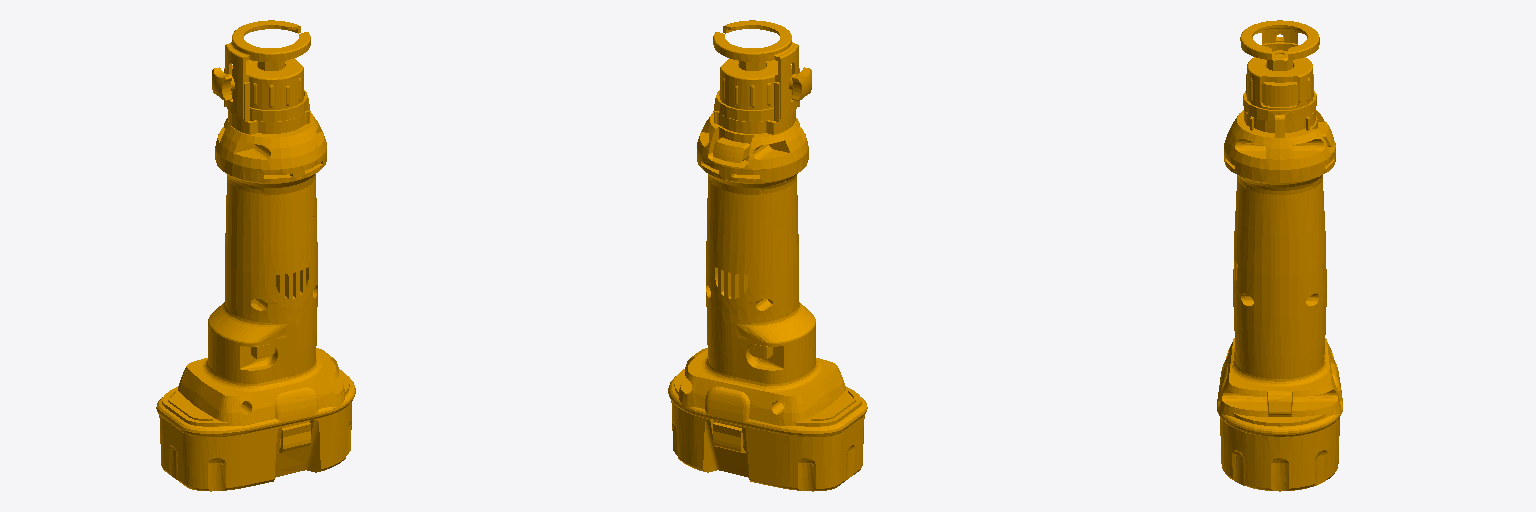
The robot description file, URDF, robot "dewalt_dc550ka-robot":
<?xml version="1.0"?>
<robot name="dewalt_dc550ka-robot"
       xmlns:xi="http://www.w3.org/2001/XInclude"
       xmlns:gazebo="http://playerstage.sourceforge.net/gazebo/xmlschema/#gz"
       xmlns:model="http://playerstage.sourceforge.net/gazebo/xmlschema/#model"
       xmlns:sensor="http://playerstage.sourceforge.net/gazebo/xmlschema/#sensor"
       xmlns:body="http://playerstage.sourceforge.net/gazebo/xmlschema/#body"
       xmlns:geom="http://playerstage.sourceforge.net/gazebo/xmlschema/#geom"
       xmlns:joint="http://playerstage.sourceforge.net/gazebo/xmlschema/#joint"
       xmlns:interface="http://playerstage.sourceforge.net/gazebo/xmlschema/#interface"
       xmlns:rendering="http://playerstage.sourceforge.net/gazebo/xmlschema/#rendering"
       xmlns:renderable="http://playerstage.sourceforge.net/gazebo/xmlschema/#renderable"
       xmlns:controller="http://playerstage.sourceforge.net/gazebo/xmlschema/#controller"
       xmlns:physics="http://playerstage.sourceforge.net/gazebo/xmlschema/#physics">
  <gazebo>
    <static>false</static>
  </gazebo>
  <link name="nil_link">
    <visual>
      <origin xyz="0 0 0" rpy="0 -0 0"/>
      <geometry>
        <mesh filename="model://dewalt_dc550ka/meshes/dewalt_dc550ka.dae" scale="1 1 1" />
      </geometry>
    </visual>
    <collision>
      <origin xyz="0 0 0" rpy="0 -0 0"/>
      <geometry>
        <mesh filename="model://dewalt_dc550ka/meshes/dewalt_dc550ka.dae" scale="1 1 1" />
      </geometry>
    </collision>
    <inertial>
      <mass value="1.93999" />
      <origin xyz="0 0 0" rpy="0 -0 0"/>
      <inertia ixx="1e-03" ixy="0" ixz="0" iyy="1e-03" iyz="0" izz="1e-03"/>
    </inertial>
  </link>
  <gazebo reference="nil_link">
    <mu1>0.9</mu1>
    <mu2>0.9</mu2>
  </gazebo>
</robot>

--- Render facts (derived) ---
3 views of the same robot in one strip: view 1: azimuth 30°, elevation 25°; view 2: azimuth 150°, elevation 25°; view 3: azimuth 270°, elevation 25° (orthographic).
Robot: dewalt_dc550ka-robot — 1 links, 0 joints (none); root link nil_link; default pose: all joints at 0.
Links seen in each view (by area): view 1: nil_link; view 2: nil_link; view 3: nil_link.
Link boxes in pixels (bbox=[...]): nil_link: bbox=[156, 20, 355, 491]; nil_link: bbox=[668, 20, 867, 491]; nil_link: bbox=[1217, 20, 1342, 491].
Size in the robot's own frame: 0.1398 by 0.0864 by 0.3175 metres.
1 mesh visuals loaded from 1 distinct referenced files (1 Collada DAE).